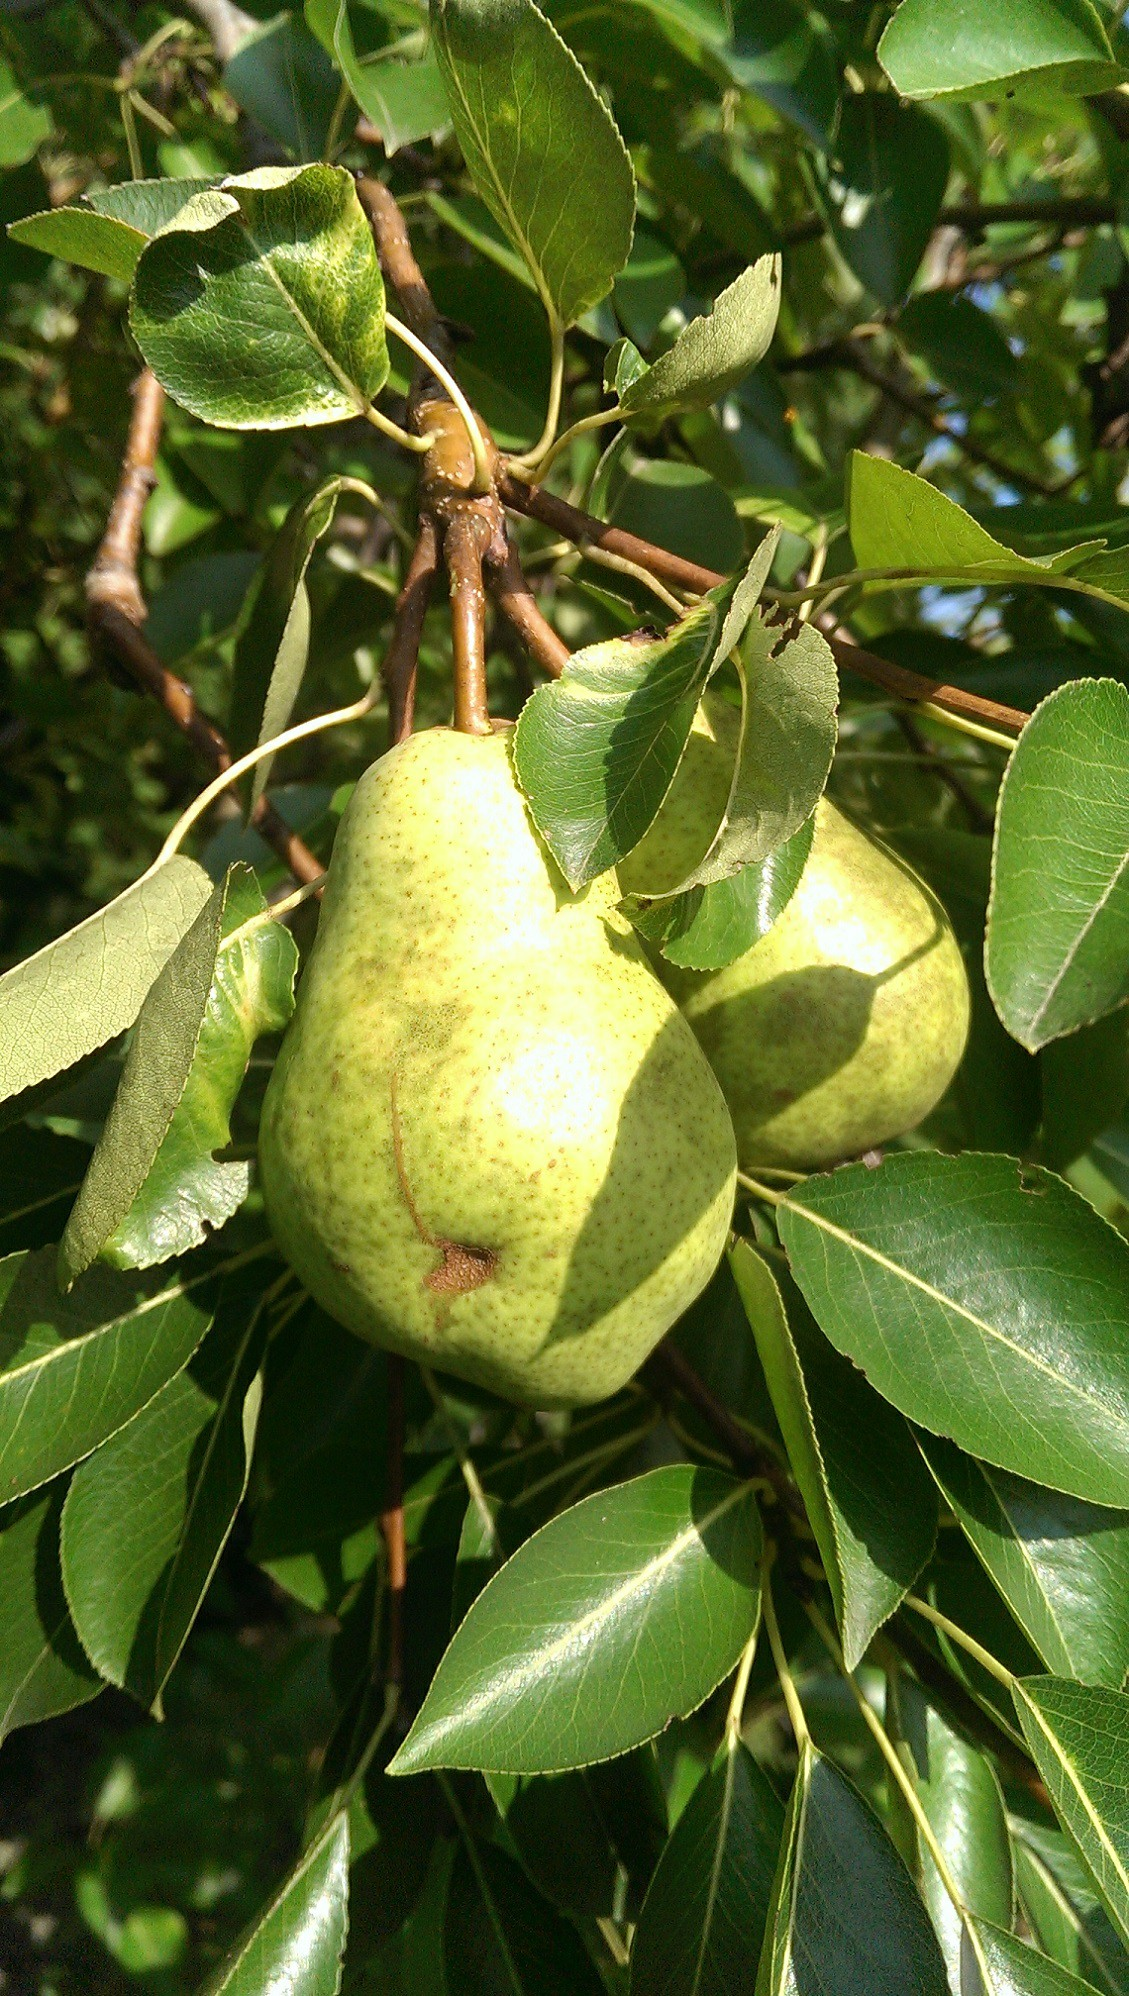pear: (278, 729, 736, 1407), (580, 696, 967, 1169)
